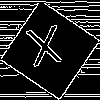X: (25, 25, 66, 76)
